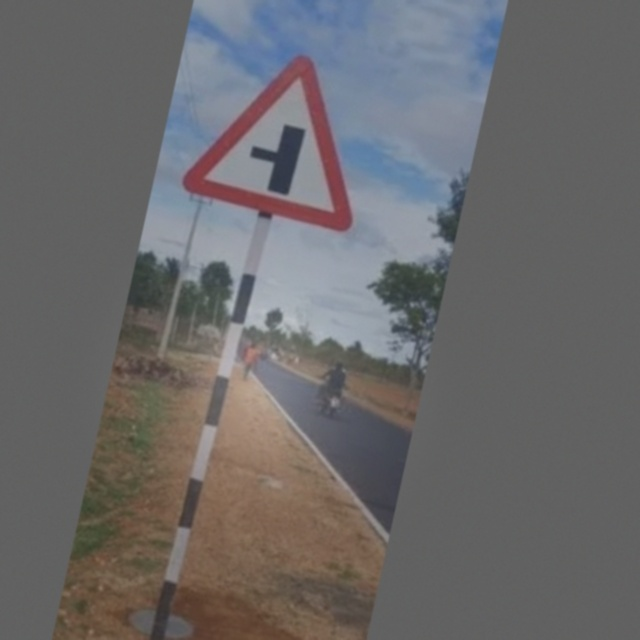Side_Road_Left: (184, 35, 386, 240)
